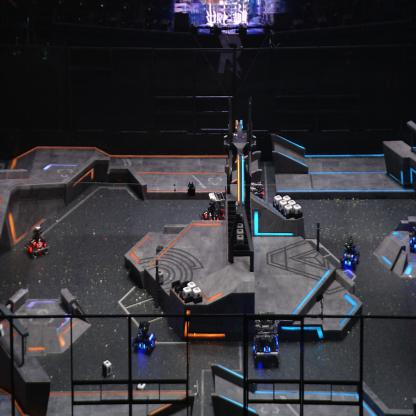car: (251, 309, 280, 366), (199, 191, 225, 228), (24, 225, 50, 260), (131, 320, 156, 355), (338, 236, 360, 271), (245, 180, 264, 211), (407, 224, 416, 256)
